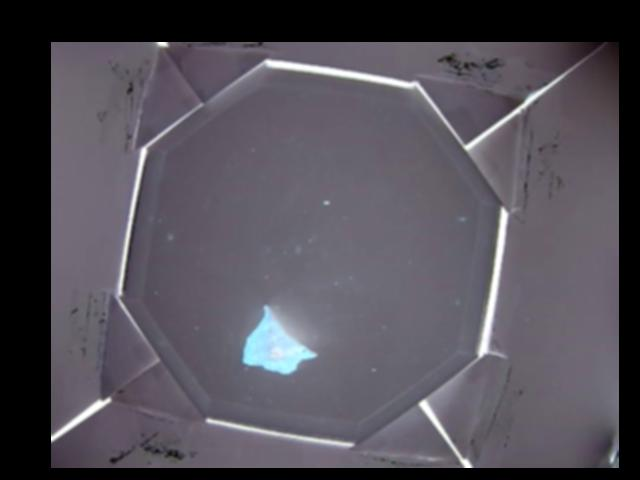Brisk: (241, 304, 315, 372)
